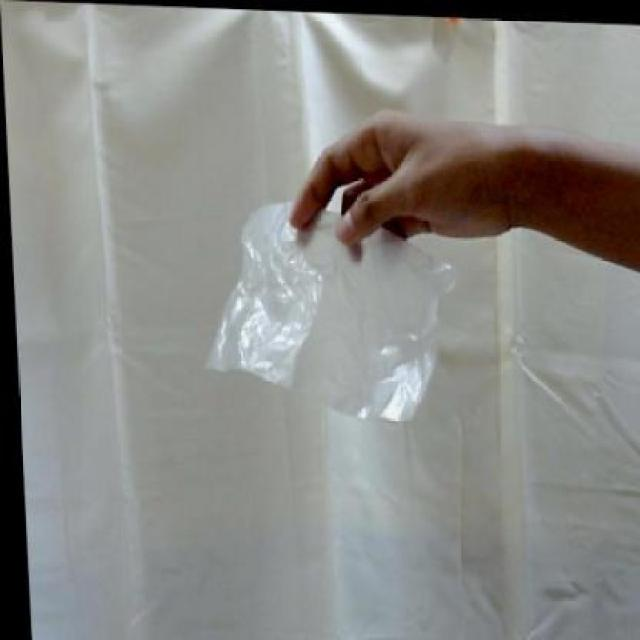Plastic: (203, 196, 461, 436)
